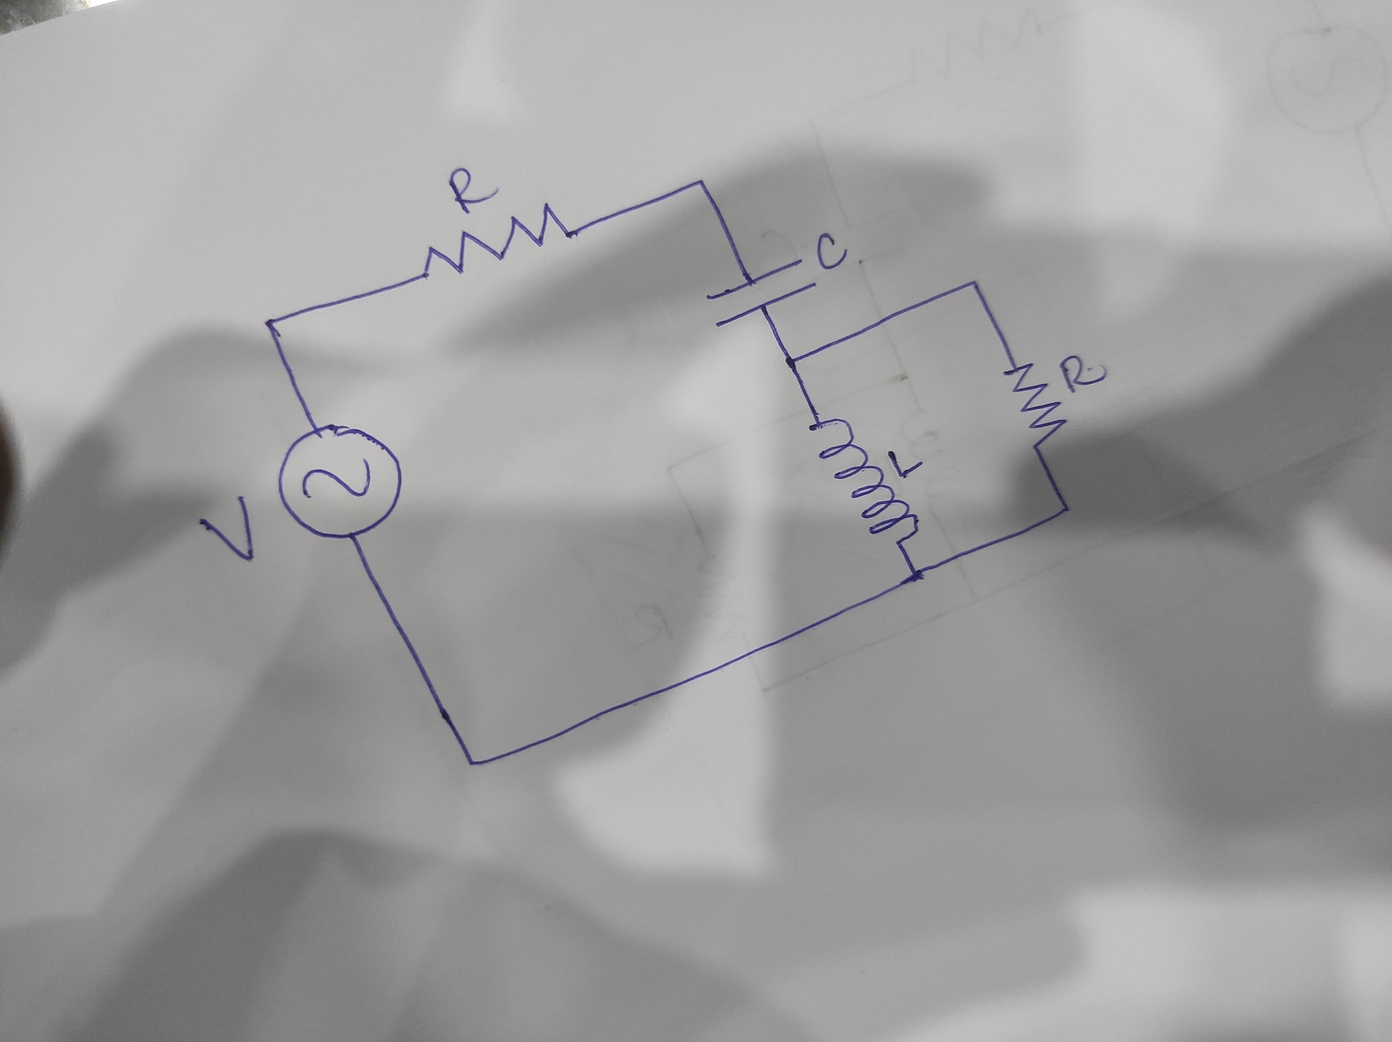capacitor.unpolarized: (704, 256, 817, 329)
inductor: (804, 414, 920, 547)
junction: (684, 167, 715, 200), (257, 308, 288, 338), (897, 565, 930, 586), (780, 352, 804, 370), (462, 752, 484, 769), (962, 275, 981, 293), (1054, 500, 1072, 518)
resistor: (418, 200, 575, 283), (999, 360, 1069, 449)
text: (197, 493, 260, 564), (445, 163, 502, 216), (1057, 351, 1109, 395), (813, 230, 850, 273), (885, 447, 923, 479)
voltage.dc_ac: (276, 422, 404, 542)
